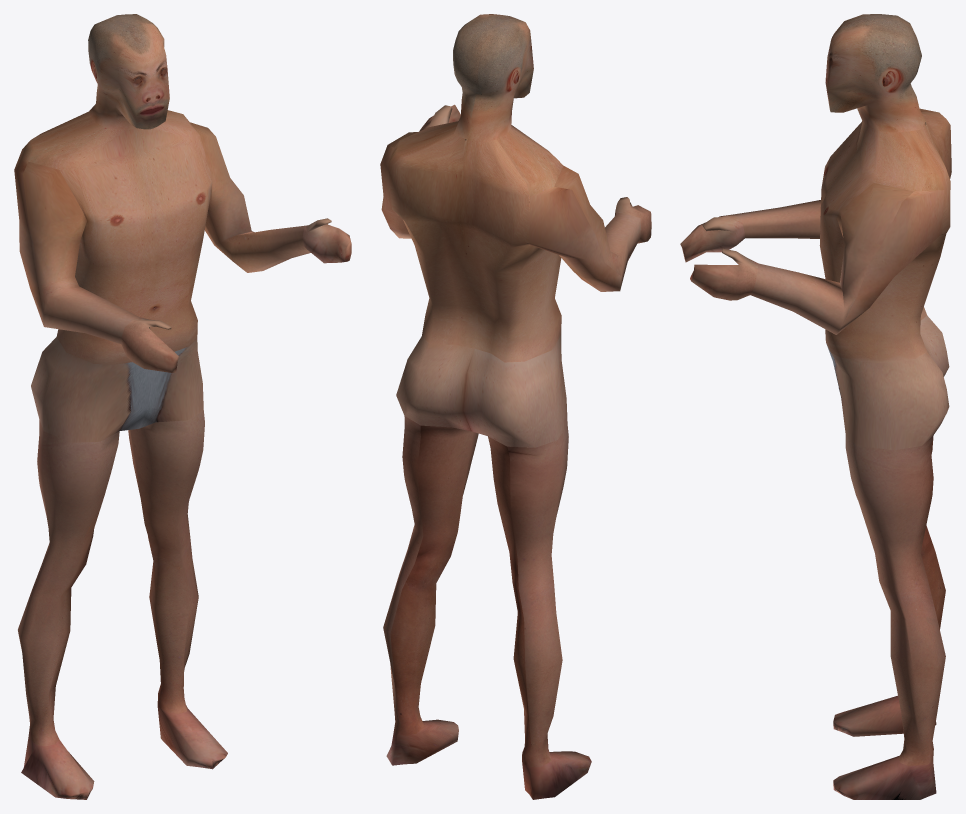
The model's file is Human Body - Boss.fbx.
3 renders of one model, left to right at view 1: azimuth 30°, elevation 25°; view 2: azimuth 150°, elevation 25°; view 3: azimuth 270°, elevation 25°, orthographic.
Parts seen in each view (by area): view 1: male body; view 2: male body; view 3: male body.
Part boxes in pixels (x1=…): male body: x1=14, y1=14, x2=351, y2=799; male body: x1=380, y1=14, x2=651, y2=799; male body: x1=680, y1=14, x2=951, y2=799.
Bounding box in the file's own units: 49.46 × 141 × 47.02.
